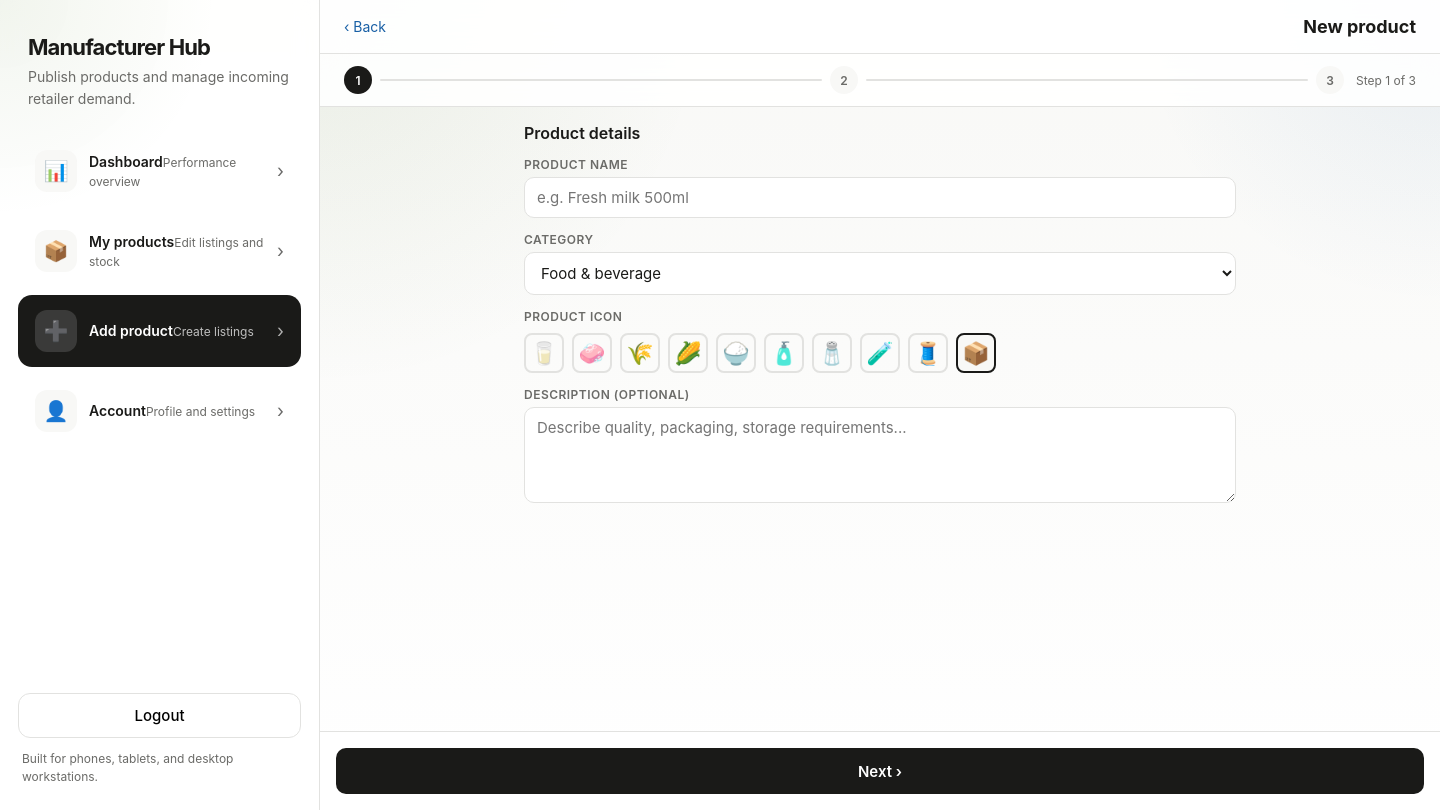
it: the three steps › walks forward from details to preview
Expected: the text "Step 1 of 3" is shown, left=1356, top=72, right=1416, bottom=88
Expected: the text "Product details" is shown, left=524, top=123, right=640, bottom=143
Click the button "Next ›": coordinates (880, 771) left=336, top=748, right=1424, bottom=794
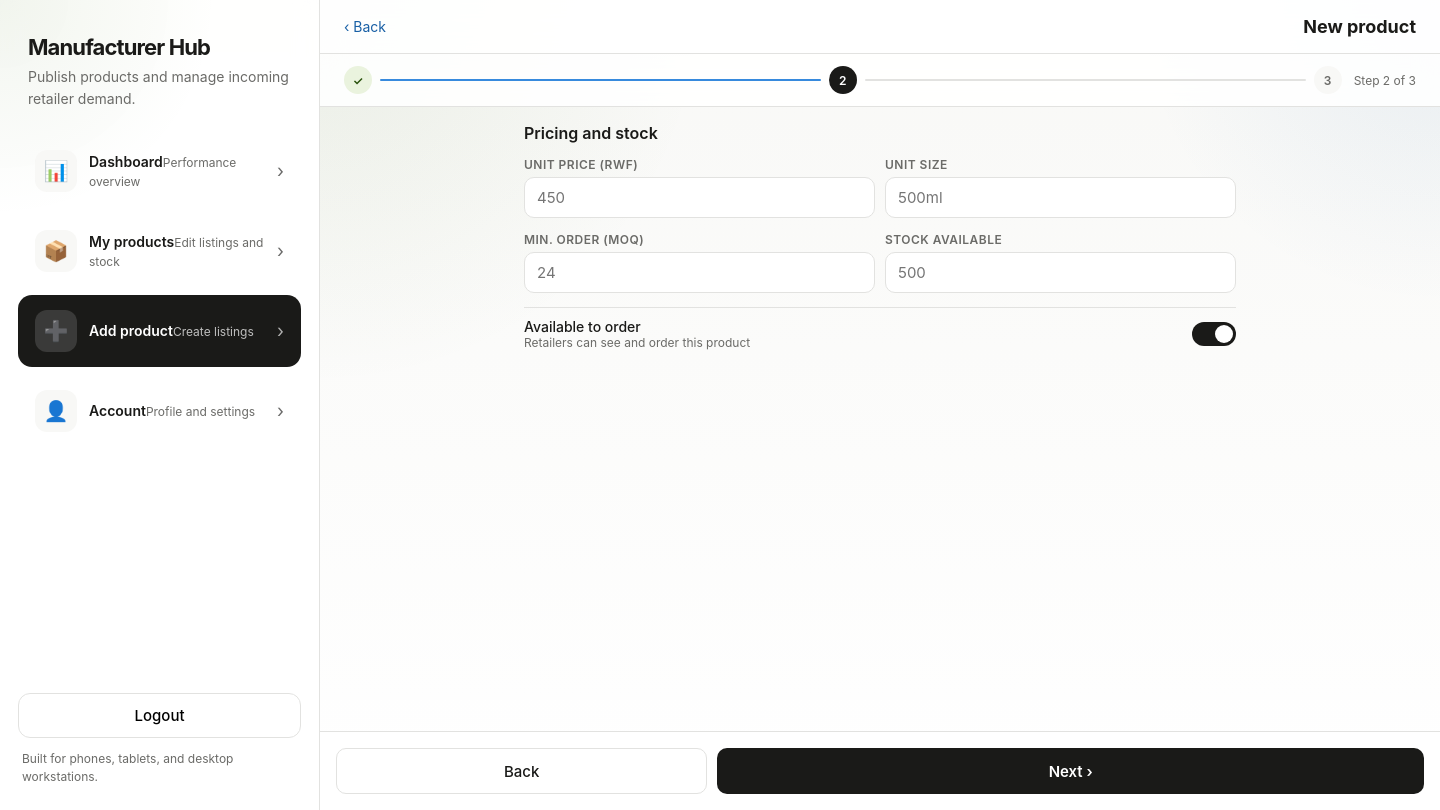
Result: the text "Step 2 of 3" is shown at left=1354, top=72, right=1416, bottom=88
Result: the text "Pricing and stock" is shown at left=524, top=123, right=658, bottom=143
Click the button "Next ›": coordinates (1071, 771) left=717, top=748, right=1424, bottom=794
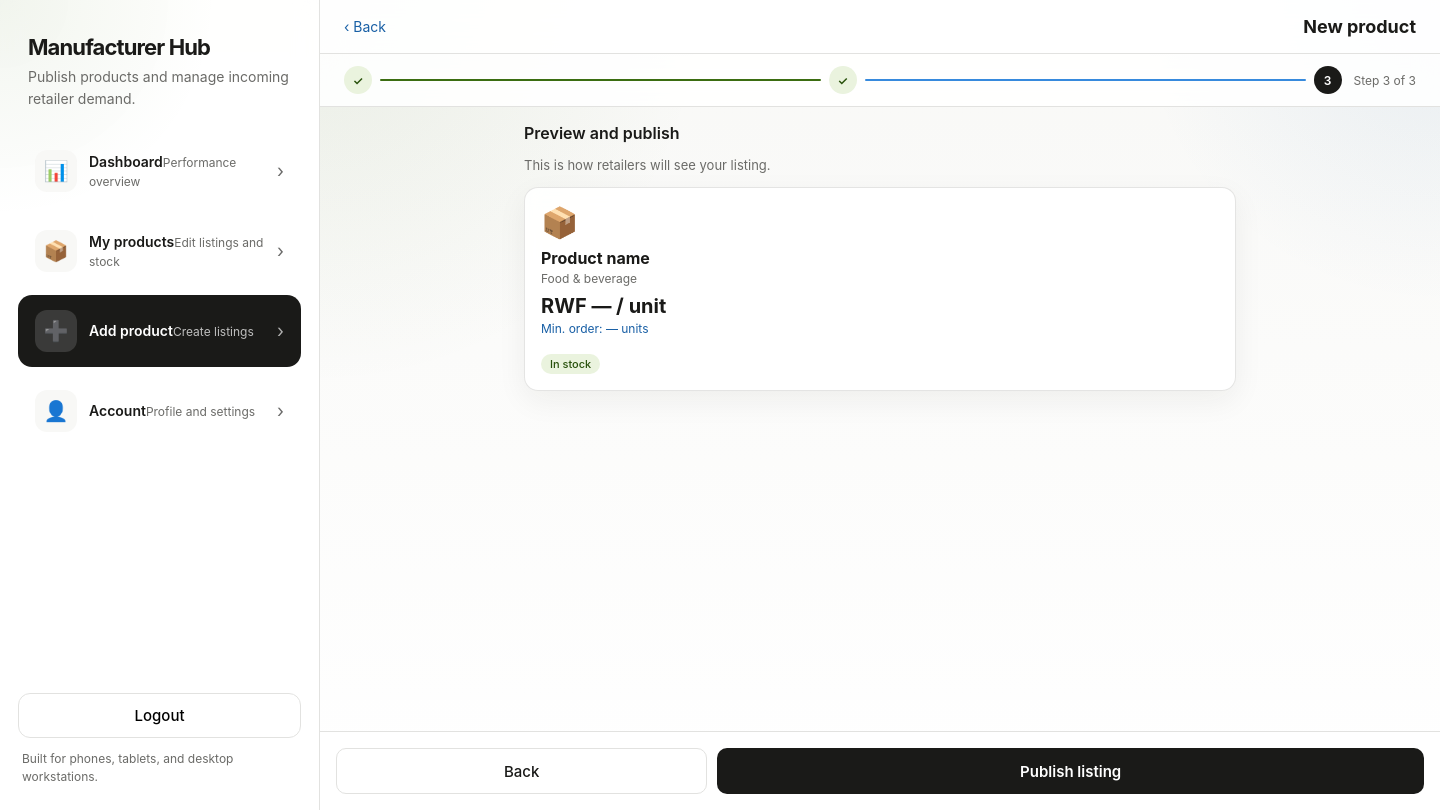
Result: the text "Step 3 of 3" is shown at left=1354, top=72, right=1416, bottom=88
Result: the text "Preview and publish" is shown at left=524, top=123, right=680, bottom=143
